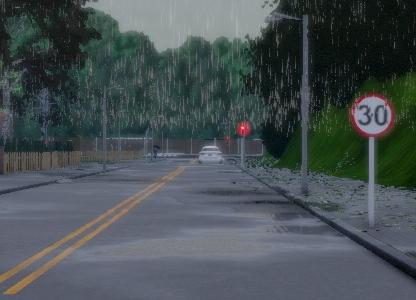Speed_30: (351, 93, 394, 139)
